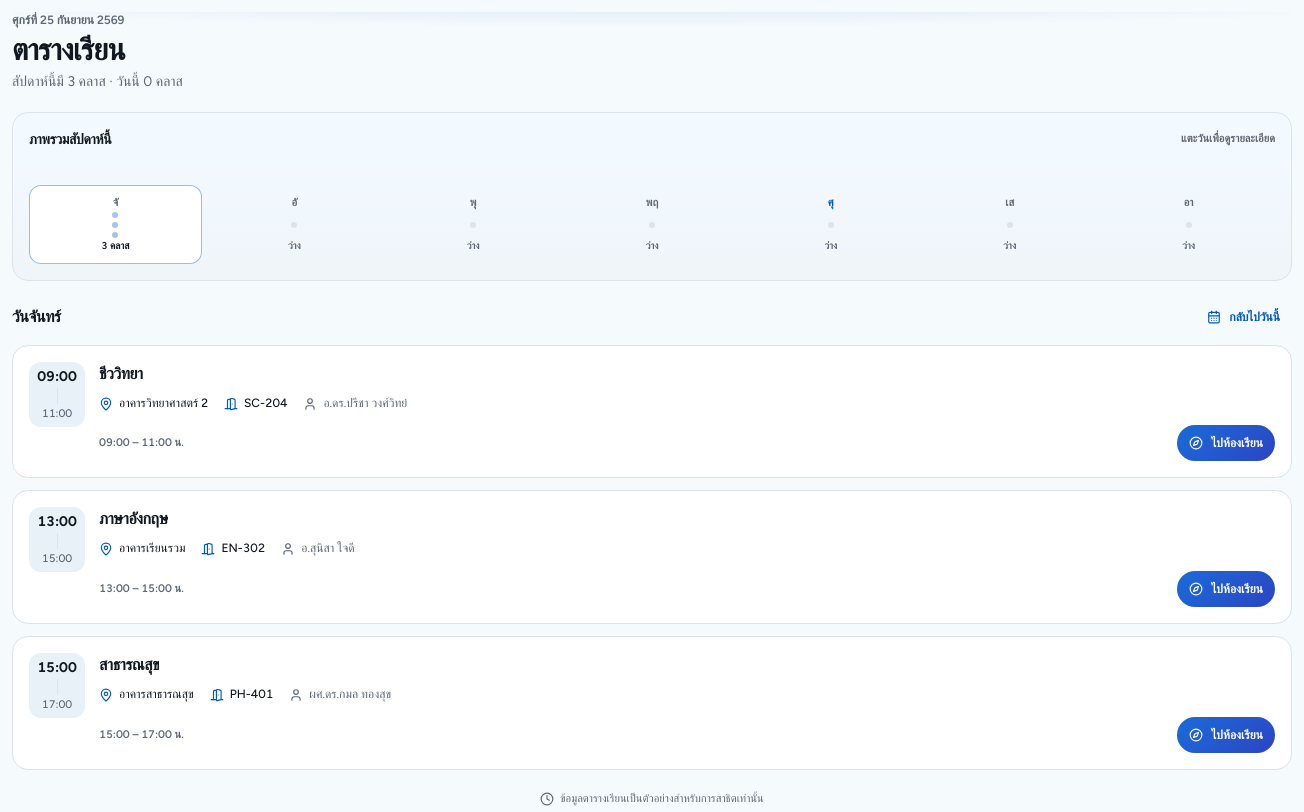
Test: Schedule › switches to another day and shows that day's state
The image size is (1304, 812).
Click the button with test id "schedule.week_overview.day.2": x=294, y=224 [208,185,381,264]
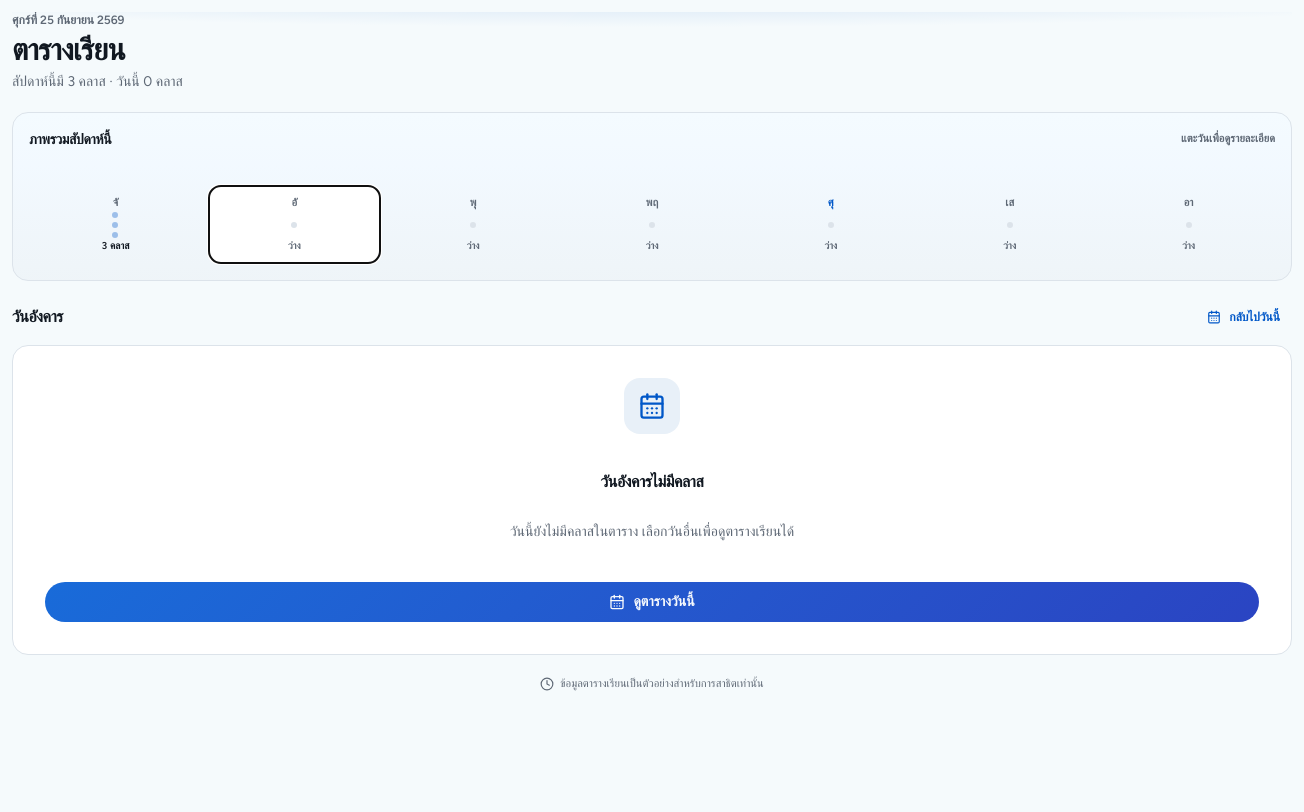
Expected: the heading "วันอังคาร" is shown, [12,305,63,329]
Expected: the element with test id "schedule.empty_state" shows "วันอังคารไม่มีคลาส", [12,345,1292,655]
